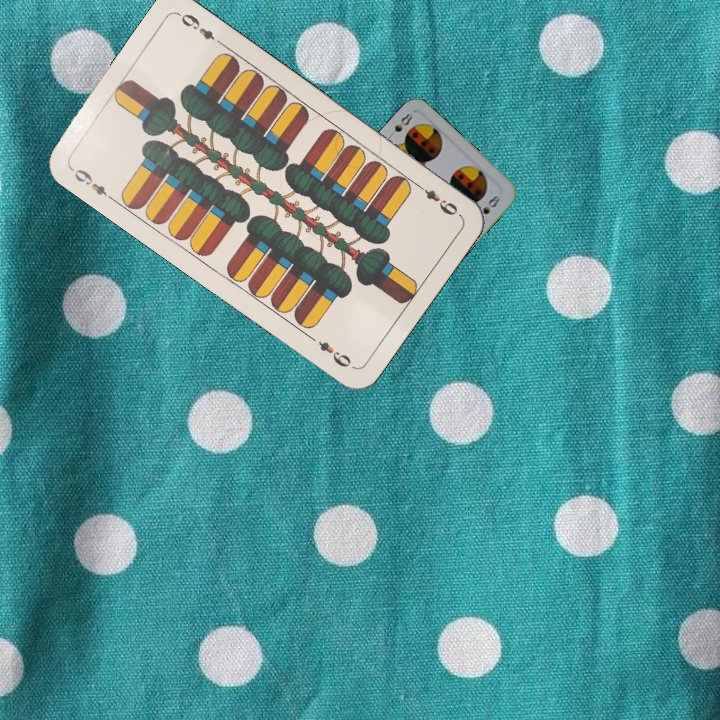E9: (66, 163, 117, 204), (411, 179, 463, 219)
S8: (383, 109, 416, 142)
